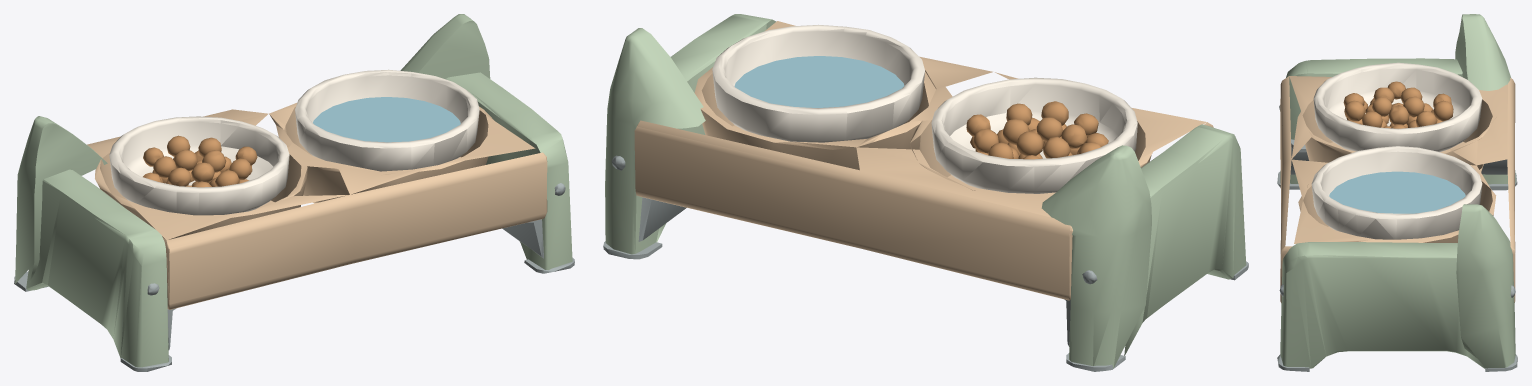
The model's file is pet_bowls.glb.
3 renders of one model, left to right at view 1: azimuth 30°, elevation 25°; view 2: azimuth 150°, elevation 25°; view 3: azimuth 270°, elevation 25°, orthographic. The views are drawn at different scales.
Size of the model in its own units: 1.1 by 0.4028 by 0.5414.
